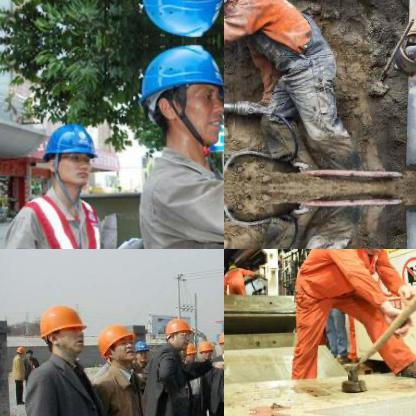Helmet: (130, 40, 223, 150), (37, 113, 103, 197), (130, 0, 223, 39), (38, 302, 90, 360), (98, 321, 136, 365), (162, 316, 192, 352), (132, 336, 148, 364), (195, 338, 213, 362), (214, 328, 223, 358), (14, 343, 23, 357)
